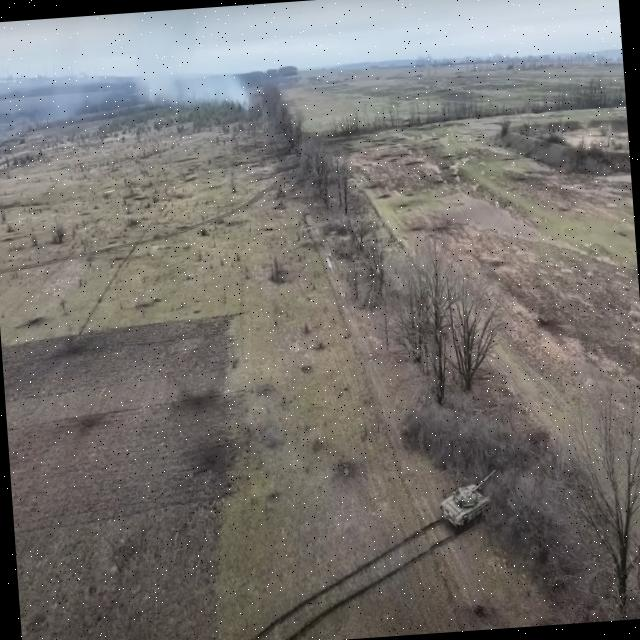MBT: (436, 463, 502, 534)
